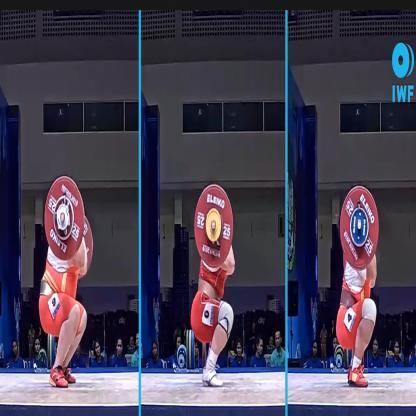barbell: (44, 176, 94, 269), (339, 186, 379, 268), (194, 184, 233, 268)
